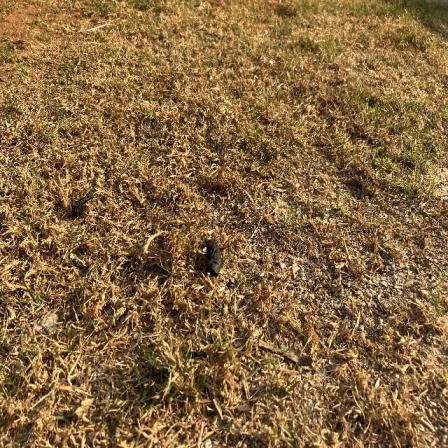dog-poop: (198, 234, 232, 283), (69, 186, 96, 215)
